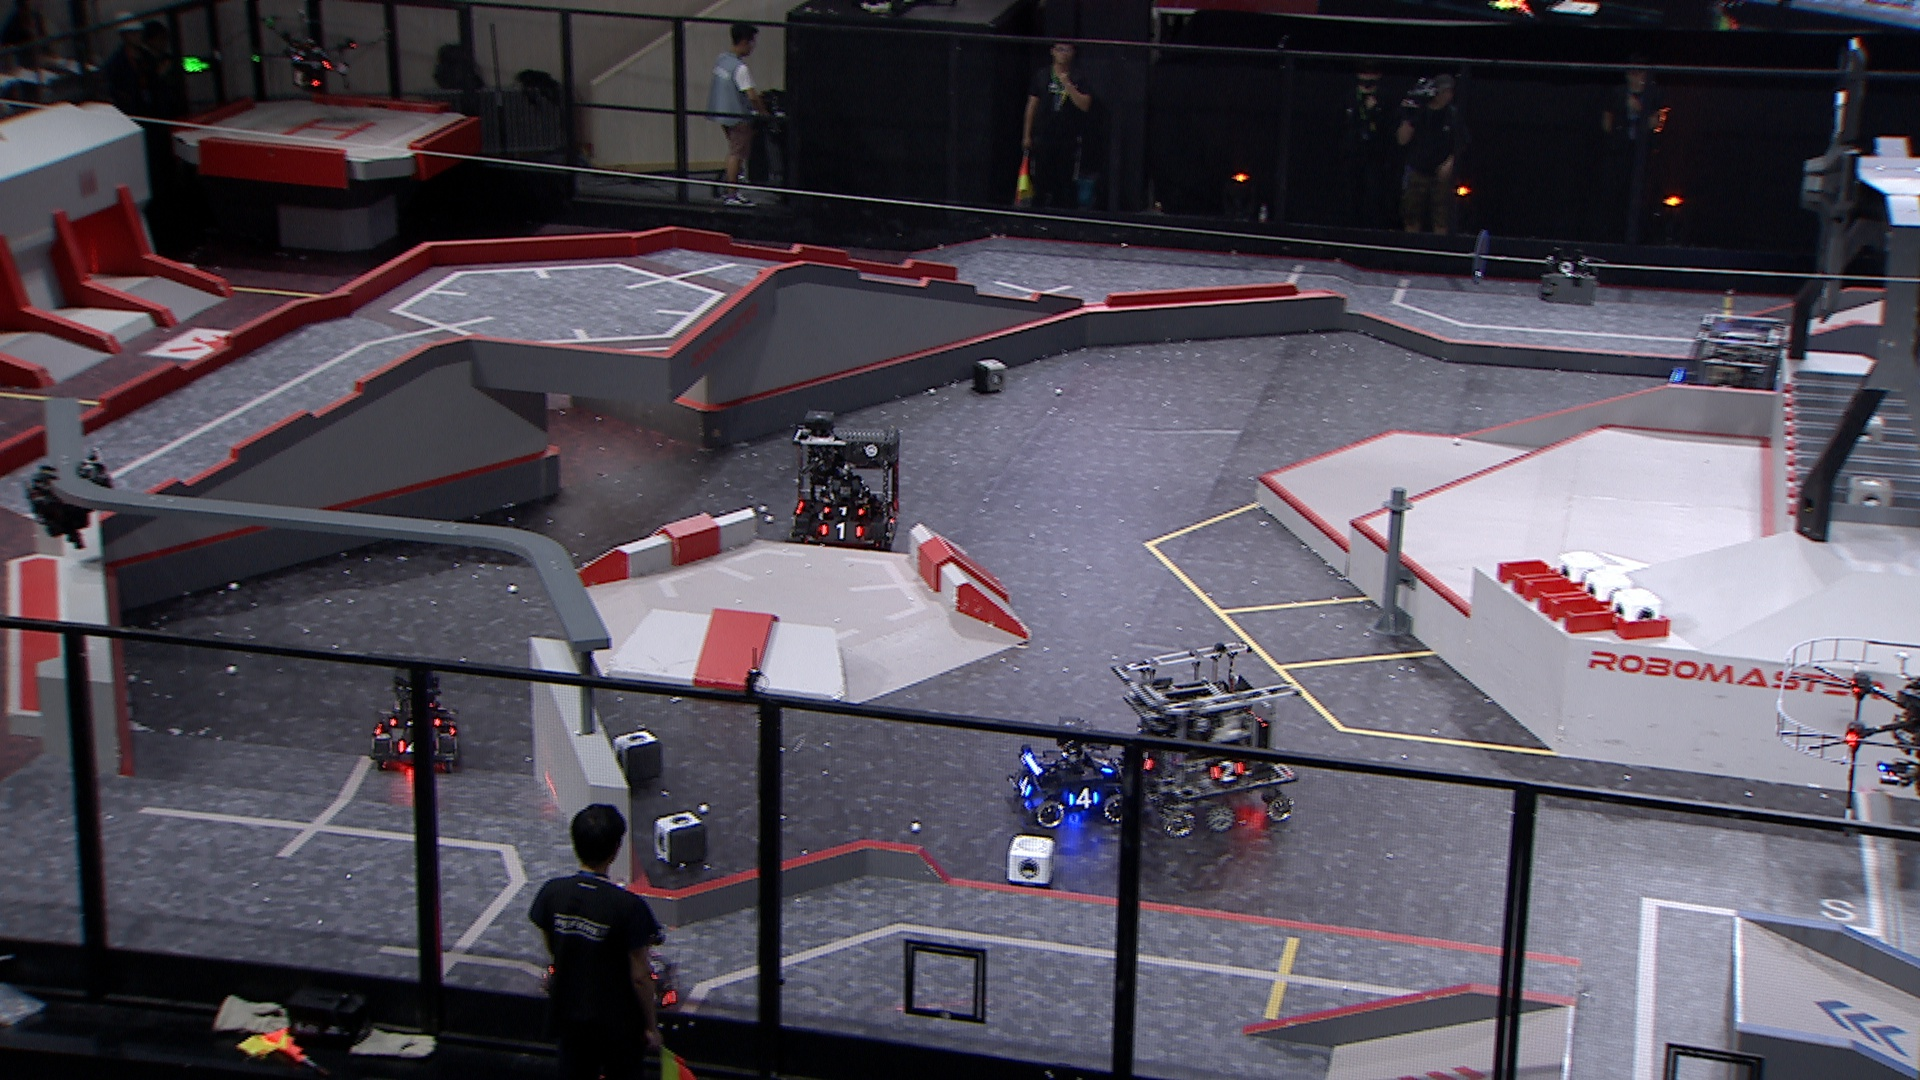armor: (1067, 785, 1102, 812), (1207, 760, 1245, 785), (820, 520, 865, 541), (1092, 752, 1117, 779), (642, 953, 666, 982), (822, 504, 866, 518), (1013, 771, 1033, 800)
car: (1114, 638, 1300, 840), (789, 409, 906, 551), (1665, 310, 1793, 431), (1005, 713, 1131, 827), (547, 927, 679, 1015), (367, 665, 463, 775)
watcher: (21, 444, 120, 553)
